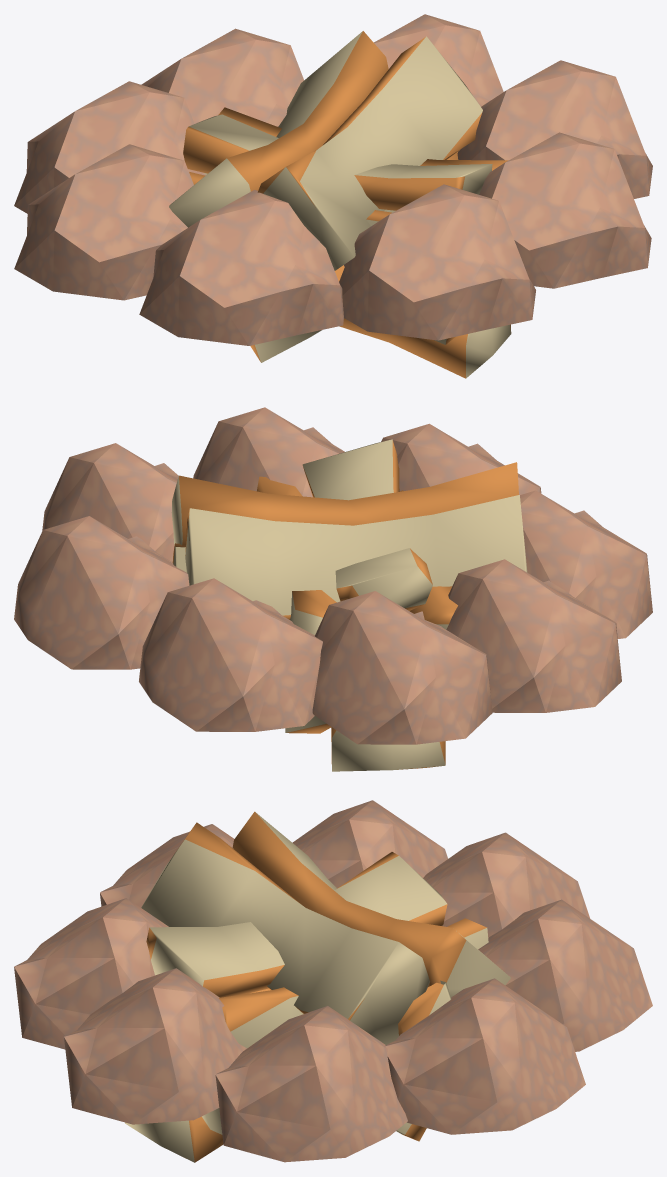
Rendered from CampFireHand.fbx.
3 renders of one model, top to bottom at view 1: azimuth 30°, elevation 25°; view 2: azimuth 150°, elevation 25°; view 3: azimuth 270°, elevation 25°, orthographic. The views are drawn at different scales.
Parts seen in each view (by area): view 1: WoodStack (2), Rock, Rock (1), Rock (2), Rock (7), Rock (6), WoodStack (1), Rock (3), Rock (4), Rock (5); view 2: WoodStack (2), Rock (4), Rock (3), Rock (2), Rock (5), WoodStack (1), Rock (1), Rock (6), Rock (7), Rock; view 3: WoodStack (2), Rock (5), Rock (6), Rock (7), WoodStack (1), Rock (4), Rock, Rock (3), Rock (2), Rock (1).
Part boxes in pixels (box(x1,y1,x2,y2)): WoodStack (2): box(169, 31, 482, 362); Rock: box(339, 184, 535, 340); Rock (1): box(139, 190, 343, 345); Rock (2): box(14, 144, 193, 300); Rock (7): box(479, 132, 651, 288); Rock (6): box(457, 60, 652, 198); WoodStack (1): box(183, 107, 511, 378); Rock (3): box(14, 81, 205, 213); Rock (4): box(141, 28, 304, 126); Rock (5): box(374, 14, 503, 106); WoodStack (2): box(171, 462, 527, 619); Rock (4): box(139, 578, 322, 731); Rock (3): box(312, 591, 492, 744); Rock (2): box(446, 559, 621, 712); Rock (5): box(14, 516, 189, 669); WoodStack (1): box(257, 439, 457, 771); Rock (1): box(520, 490, 652, 638); Rock (6): box(42, 443, 178, 561); Rock (7): box(193, 407, 344, 497); Rock: box(381, 423, 541, 494); WoodStack (2): box(141, 811, 510, 1141); Rock (5): box(385, 978, 585, 1134); Rock (6): box(215, 1006, 407, 1162); Rock (7): box(64, 968, 246, 1124); WoodStack (1): box(125, 852, 488, 1162); Rock (4): box(478, 899, 652, 1051); Rock: box(14, 898, 168, 1049); Rock (3): box(423, 832, 589, 937); Rock (2): box(292, 800, 447, 888); Rock (1): box(100, 824, 234, 907).
Size of the model in its own units: 1.24 by 0.4534 by 1.14.
Materials: 3 (1 with a texture image).
